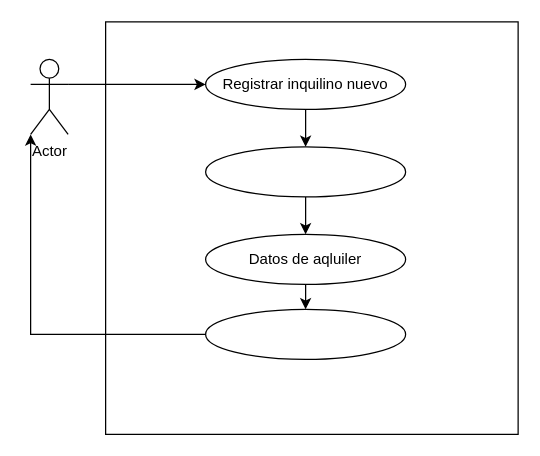
This 540x456 diagram has some shape labels left out. The shapes that lost their labels are listed below. From the top down, each one's centre as x and y in pixels, then its label:
At point 305,171: "Datos personales".
At point 305,333: "Generar QR de ingreso y egreso".
